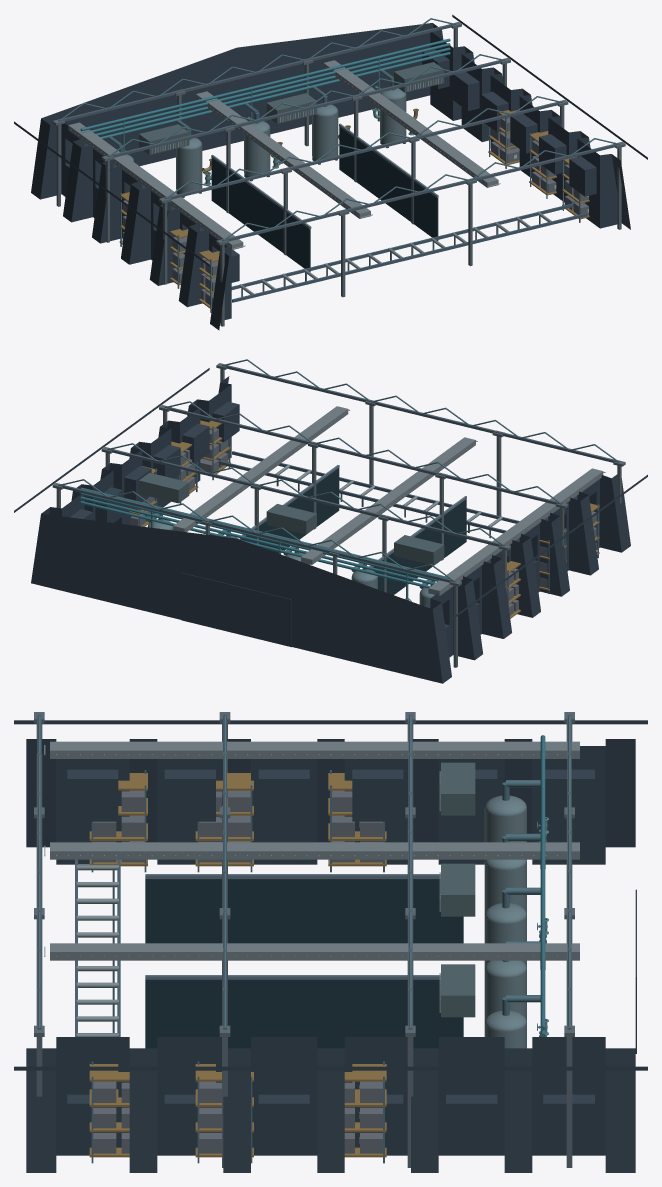
File: facility.glb
3 renders of one model, top to bottom at view 1: azimuth 30°, elevation 25°; view 2: azimuth 150°, elevation 25°; view 3: azimuth 270°, elevation 25°, orthographic. The views are drawn at different scales.
Size of the model in its own units: 30.91 by 6.54 by 23.92.
